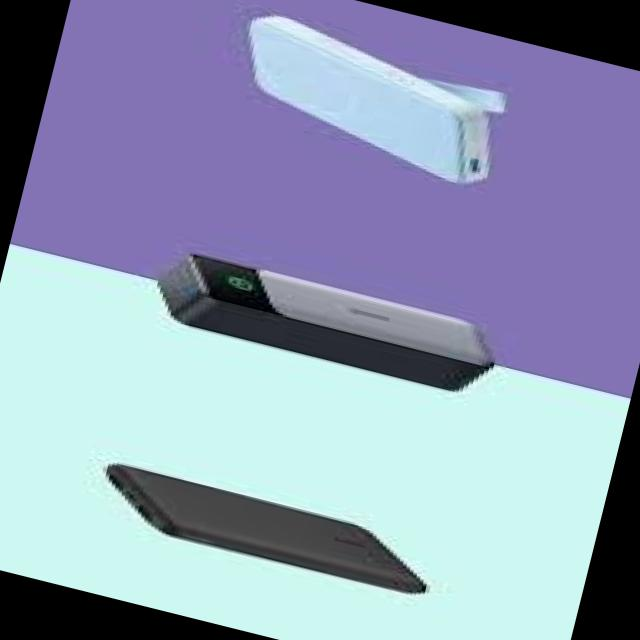power_bank: (133, 233, 515, 412), (218, 0, 542, 199), (92, 448, 462, 607)
